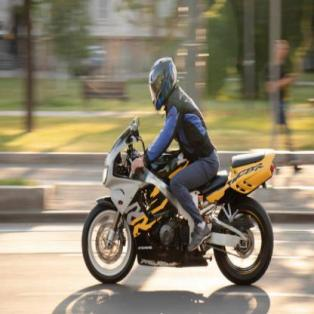Motocicleta: (81, 117, 277, 285)
